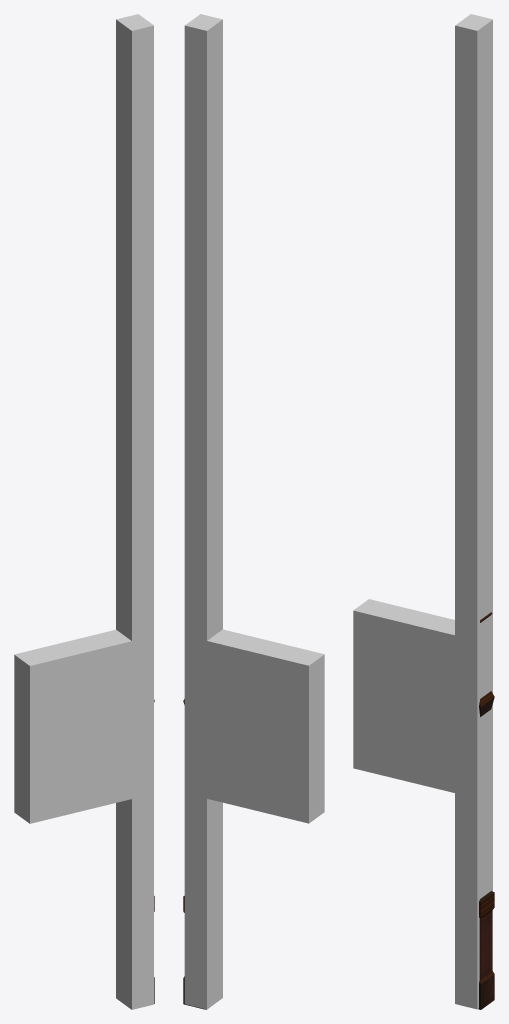
File: BalconyRail_Shorter_1Pole.fbx
3 renders of one model, left to right at view 1: azimuth 30°, elevation 25°; view 2: azimuth 150°, elevation 25°; view 3: azimuth 330°, elevation 25°, orthographic.
Visible parts, largest first — view 1: Balcony_Short1pole_COLmesh.000; view 2: Balcony_Short1pole_COLmesh.000; view 3: Balcony_Short1pole_COLmesh.000, Balcony_2_PolesShorter_LOD0.000.
Part boxes in pixels (box(x1,y1,x2,y2)): Balcony_Short1pole_COLmesh.000: box(14, 14, 153, 1009); Balcony_Short1pole_COLmesh.000: box(184, 14, 324, 1009); Balcony_Short1pole_COLmesh.000: box(353, 14, 492, 1009); Balcony_2_PolesShorter_LOD0.000: box(478, 612, 494, 1009).
Size of the model in its own units: 200 by 1482 by 43.23.
